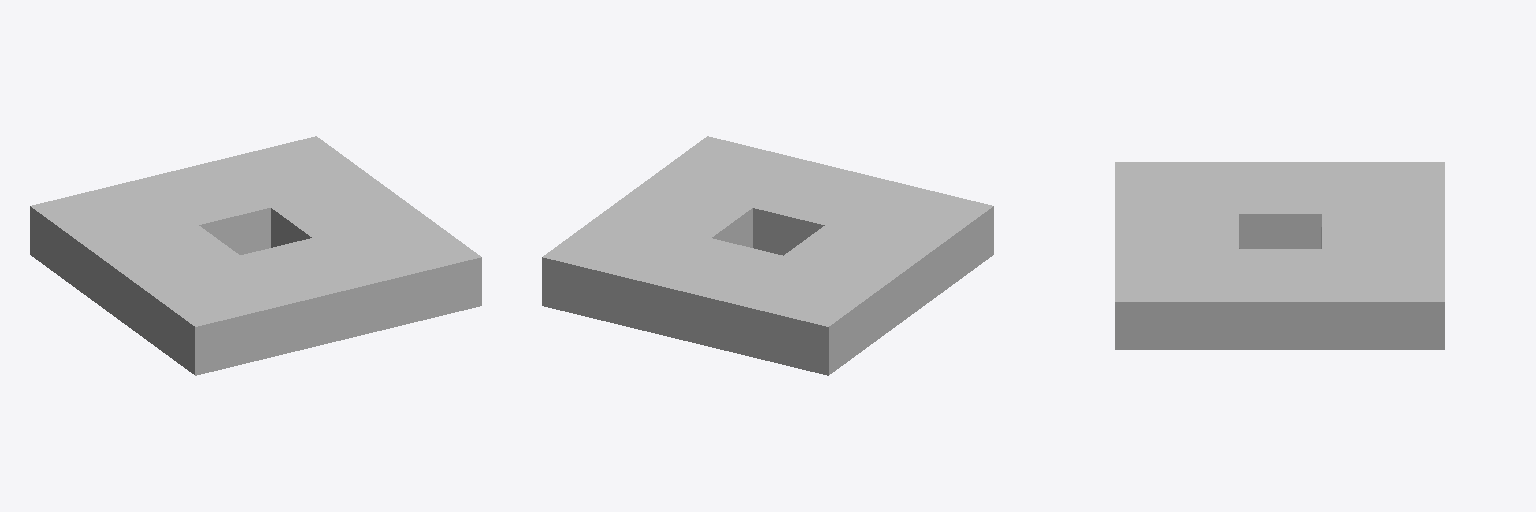
File: Wall5.obj
3 views of the same model, side by side, from view 1: azimuth 30°, elevation 25°; view 2: azimuth 150°, elevation 25°; view 3: azimuth 270°, elevation 25° (orthographic).
Visible parts, largest first — view 1: Cube; view 2: Cube; view 3: Cube.
Part boxes in pixels (x1,y1,x2,y2): Cube: (30, 136, 481, 375); Cube: (542, 136, 993, 375); Cube: (1115, 162, 1444, 349).
Size of the model in its own units: 2 by 0.3254 by 2.